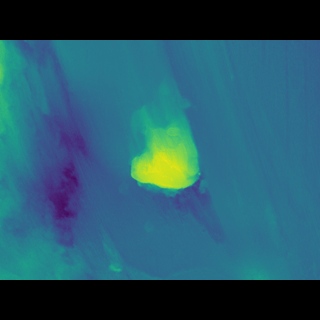Loch: (124, 102, 226, 225)
